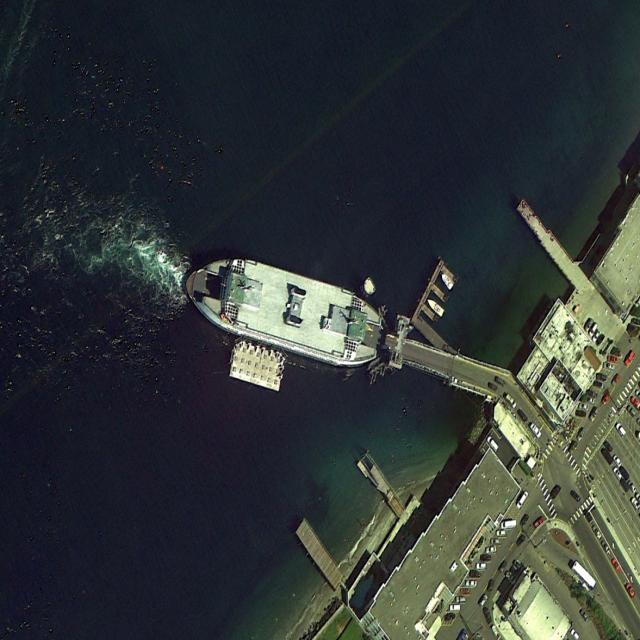RoRo: (181, 242, 390, 377)
